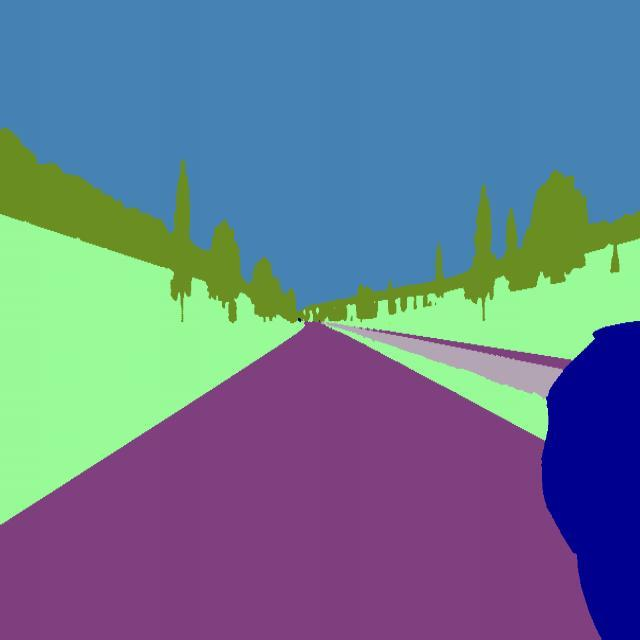unsafe: (529, 310, 640, 640)
